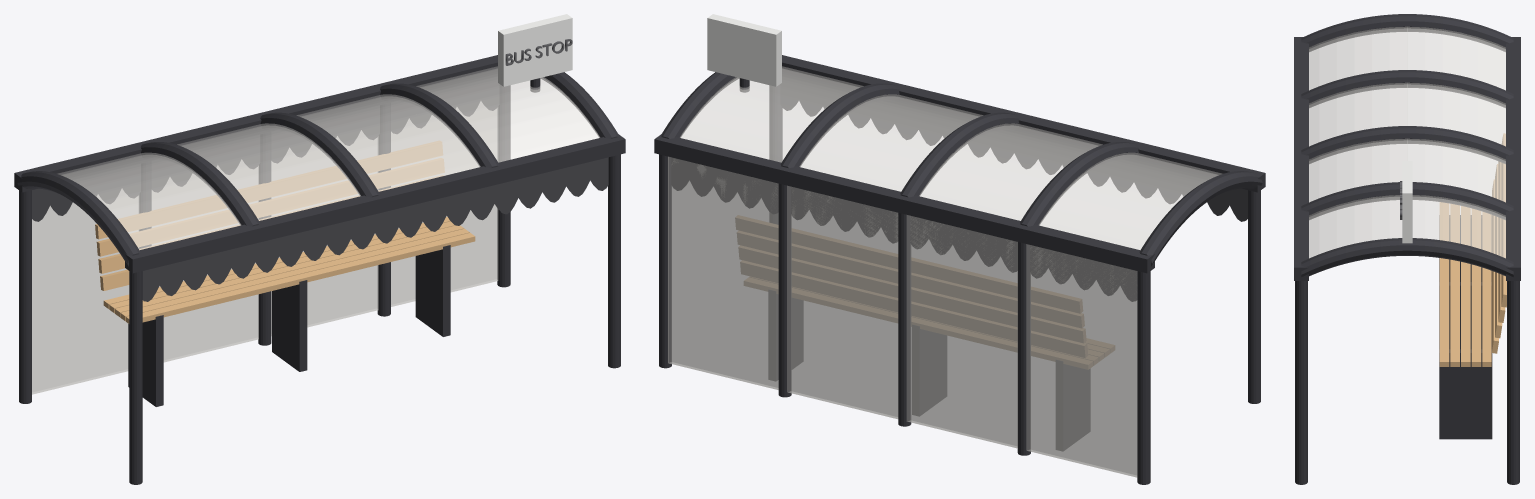
The model's file is 34-bus-stop-shelter-bs2.glb.
3 views of the same model, side by side, from view 1: azimuth 30°, elevation 25°; view 2: azimuth 150°, elevation 25°; view 3: azimuth 270°, elevation 25° (orthographic). The views are drawn at different scales.
Visible parts, largest first — view 1: VaultSkin, RearGlazing, Valance_front, EaveBeam_front, Valance_back, EaveBeam_back, BenchBack_2, BenchBack_3, SignBlade, BenchSeat_0, PostFrontEnd_0, BenchLeg_0.0 (+17 smaller); view 2: RearGlazing, VaultSkin, Valance_back, EaveBeam_back, Valance_front, EaveBeam_front, BenchBack_3, SignBlade, BenchBack_1, BenchBack_0, BenchBack_2, PostRear_0 (+15 smaller); view 3: VaultSkin, BenchLeg_1.5, Rib_4, Rib_0, Rib_1, Rib_2, Rib_3, EaveBeam_front, EaveBeam_back, PostRear_4, PostFrontEnd_1, BenchSeat_0 (+11 smaller).
Boxes of the visible parts, x1=… form: VaultSkin: x1=58, y1=66, x2=599, y2=249; RearGlazing: x1=32, y1=101, x2=498, y2=394; Valance_front: x1=142, y1=157, x2=608, y2=301; EaveBeam_front: x1=125, y1=134, x2=625, y2=273; Valance_back: x1=32, y1=77, x2=499, y2=221; EaveBeam_back: x1=14, y1=55, x2=497, y2=192; BenchBack_2: x1=96, y1=158, x2=444, y2=256; BenchBack_3: x1=95, y1=140, x2=442, y2=239; SignBlade: x1=498, y1=14, x2=572, y2=86; BenchSeat_0: x1=126, y1=232, x2=475, y2=323; PostFrontEnd_0: x1=129, y1=271, x2=142, y2=484; BenchLeg_0.0: x1=272, y1=280, x2=307, y2=371; RearGlazing: x1=668, y1=156, x2=1137, y2=477; VaultSkin: x1=680, y1=66, x2=1221, y2=249; Valance_back: x1=671, y1=157, x2=1137, y2=301; EaveBeam_back: x1=654, y1=134, x2=1154, y2=273; Valance_front: x1=780, y1=77, x2=1247, y2=221; EaveBeam_front: x1=782, y1=55, x2=1265, y2=192; BenchBack_3: x1=735, y1=215, x2=1082, y2=312; SignBlade: x1=707, y1=14, x2=781, y2=86; BenchBack_1: x1=739, y1=246, x2=1085, y2=342; BenchBack_0: x1=740, y1=260, x2=1087, y2=357; BenchBack_2: x1=737, y1=231, x2=1084, y2=327; PostRear_0: x1=1137, y1=271, x2=1150, y2=484; VaultSkin: x1=1309, y1=26, x2=1505, y2=258; BenchLeg_1.5: x1=1439, y1=349, x2=1492, y2=439; Rib_4: x1=1301, y1=238, x2=1513, y2=276; Rib_0: x1=1301, y1=14, x2=1513, y2=51; Rib_1: x1=1301, y1=70, x2=1513, y2=107; Rib_2: x1=1301, y1=126, x2=1513, y2=163; Rib_3: x1=1301, y1=182, x2=1513, y2=219; EaveBeam_front: x1=1294, y1=37, x2=1308, y2=280; EaveBeam_back: x1=1506, y1=37, x2=1520, y2=280; PostRear_4: x1=1507, y1=281, x2=1519, y2=484; PostFrontEnd_1: x1=1295, y1=281, x2=1307, y2=484; BenchSeat_0: x1=1439, y1=202, x2=1449, y2=366.
Bounding box in the file's own units: 5.2 × 3.06 × 2.14.
